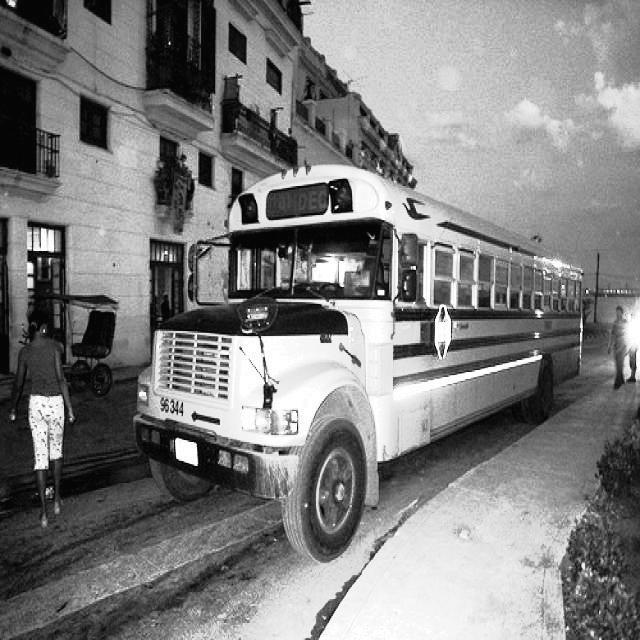Bus: (110, 163, 593, 547)
Person: (10, 304, 75, 532)
